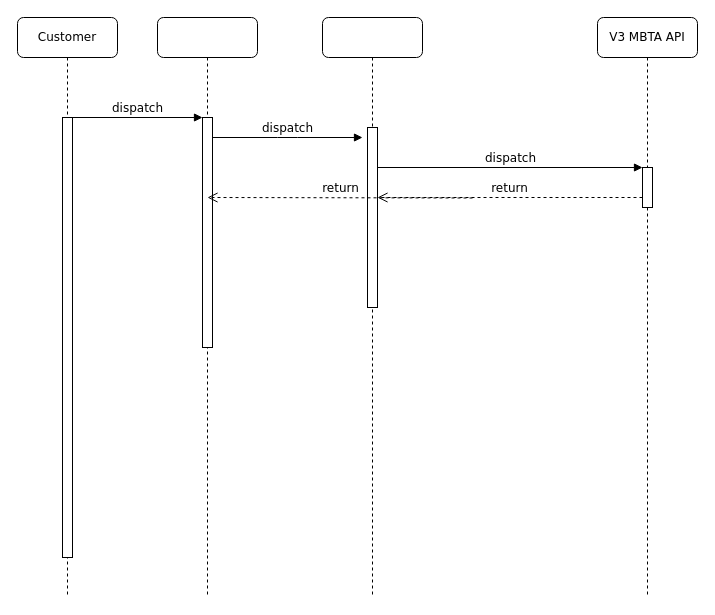
The diagram is 715 pixels wide and 615 high, and some of its shapes have lost their labels. Here are the shapes that lost their labels. From the top down, the box of each, then its label:
(156, 16, 258, 598): Ticket
(322, 16, 422, 598): Station
